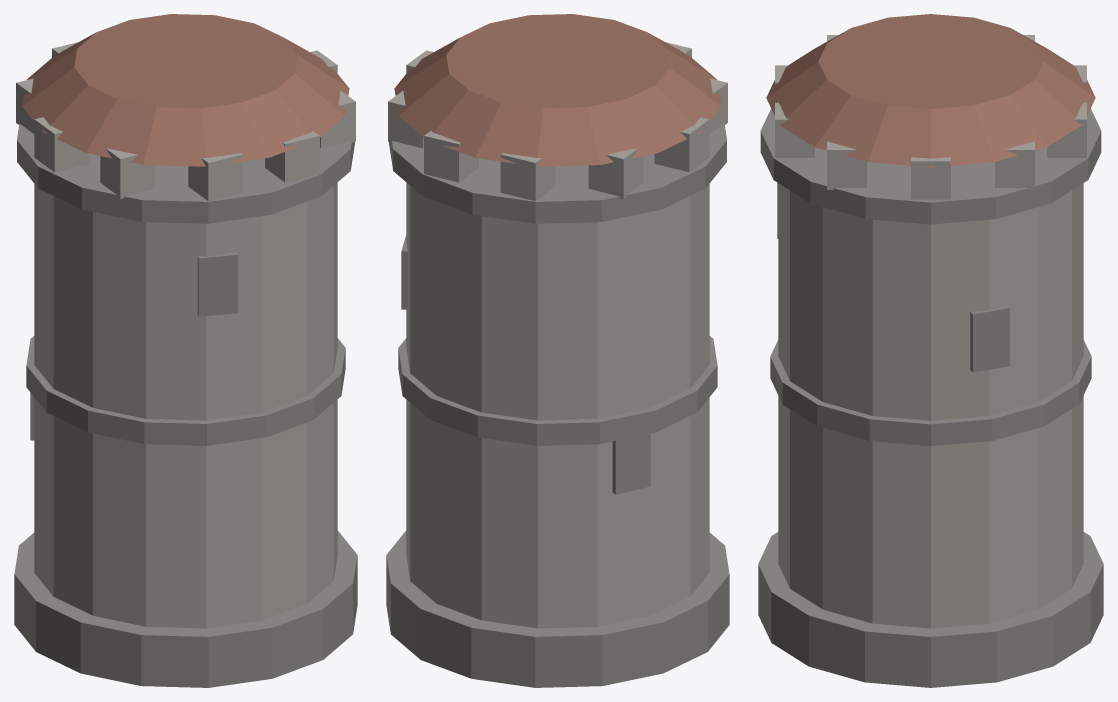
The model's file is tower_round.glb.
3 views of the same model, side by side, from view 1: azimuth 30°, elevation 25°; view 2: azimuth 150°, elevation 25°; view 3: azimuth 270°, elevation 25° (orthographic).
Parts seen in each view (by area): view 1: tower_round; view 2: tower_round; view 3: tower_round.
Boxes of the visible parts, <box> form: tower_round: <box>14,14,357,687</box>; tower_round: <box>386,14,729,687</box>; tower_round: <box>758,14,1103,687</box>.
Bounding box in the file's own units: 4.3 × 7.6 × 4.3.
